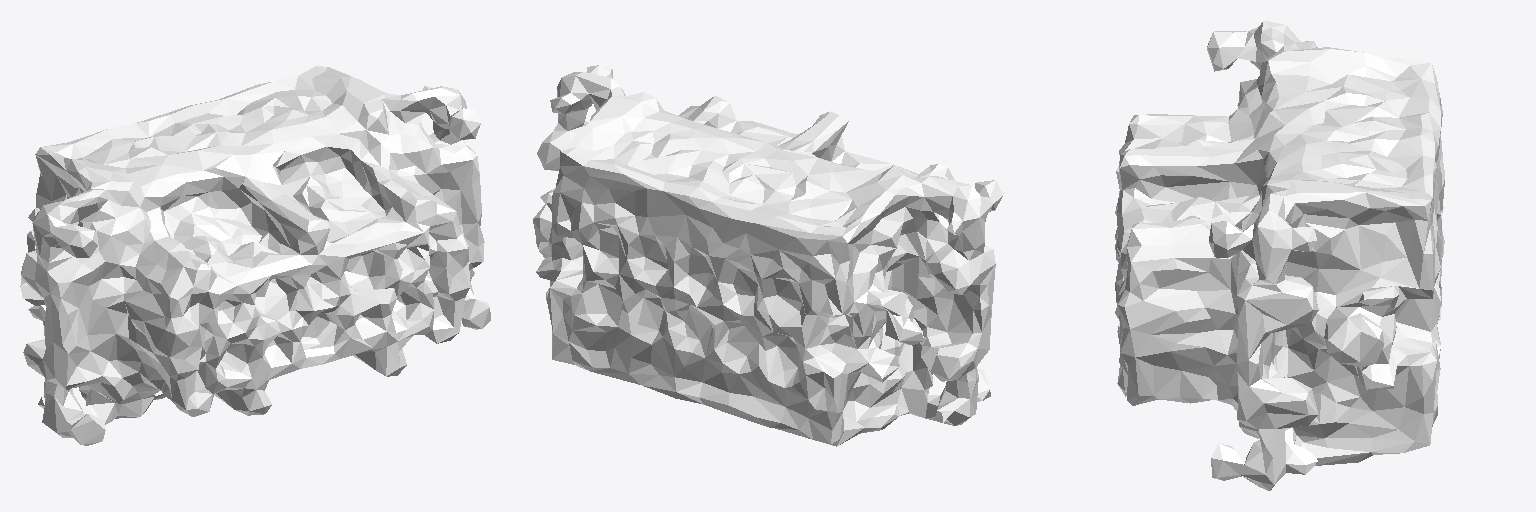
URDF robot description (atb1_conn-wp):
<?xml version="0.0" ?>
<robot name="atb1_conn-wp">
  <link name="baseLink">
    <contact>
      <friction_anchor/>
      <lateral_friction value="0.8"/>
      <spinning_friction value="0.001"/>
      <rolling_friction value="0.001"/>
      <contact_cfm value="0.0"/>
      <contact_erp value="0.2"/>
    </contact>
    <inertial>
       <origin rpy="0 0 0" xyz="0 0 0"/>
       <mass value="0.01"/>
       <inertia ixx="1e-3" ixy="0" ixz="0" iyy="1e-3" iyz="0" izz="1e-3"/>
    </inertial>
    <visual>
      <origin rpy="0 0 0" xyz="0 0 0"/>
      <geometry>
        <mesh filename="obj/fused_model.obj" scale="1 1 1"/>
      </geometry>
      <material name="white">
        <color rgba="1. 1. 1. 1."/>
      </material>
    </visual>
    <collision>
      <origin rpy="0 0 0" xyz="0 0 0"/>
      <geometry>
        <mesh filename="obj/fused_model.obj" scale="1 1 1"/>
      </geometry>
    </collision>
  </link>
</robot>

--- Render facts (derived) ---
The picture shows the robot from 3 angles, left to right: view 1: azimuth 30°, elevation 25°; view 2: azimuth 150°, elevation 25°; view 3: azimuth 270°, elevation 25°; orthographic projection.
Model atb1_conn-wp with 1 links and 0 joints (none), rooted at baseLink, posed all joints at 0.
Visible links, largest first — view 1: baseLink; view 2: baseLink; view 3: baseLink.
Link boxes in pixels (left/top/right/bottom): baseLink: left=20, top=66, right=490, bottom=445; baseLink: left=533, top=65, right=1002, bottom=446; baseLink: left=1115, top=21, right=1444, bottom=490.
Size in the robot's own frame: 0.0641 by 0.037 by 0.0366 metres.
1 mesh visuals loaded from 1 distinct referenced files (1 OBJ).
